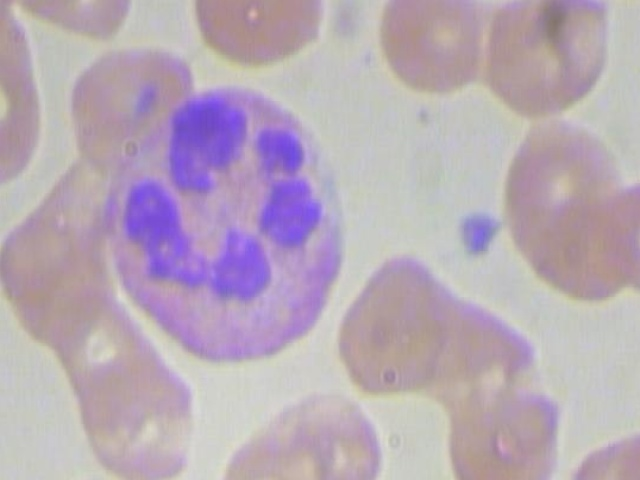Platelets: (453, 203, 510, 269)
RBC: (495, 111, 636, 316), (326, 245, 460, 401), (73, 339, 207, 480), (479, 0, 613, 124), (435, 357, 569, 480), (265, 380, 399, 480), (372, 0, 486, 101), (186, 0, 328, 75), (0, 39, 55, 191), (19, 0, 131, 48), (18, 468, 165, 480)
WBC: (97, 69, 355, 375)
